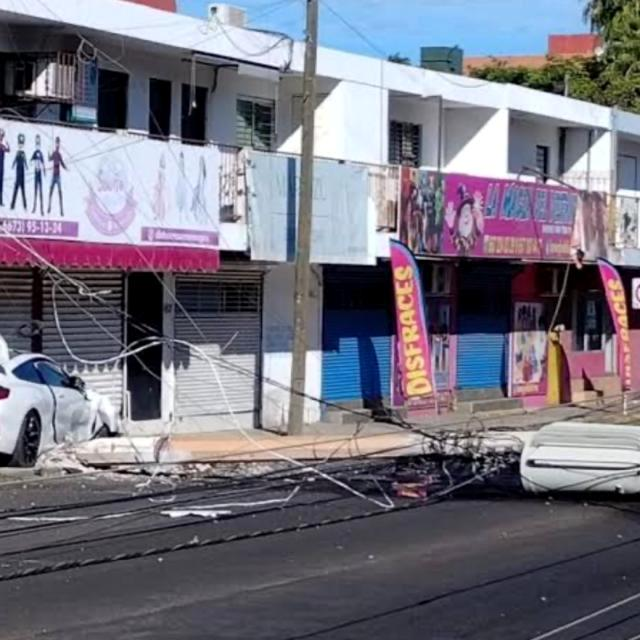Broken Pole: (71, 428, 637, 507)
